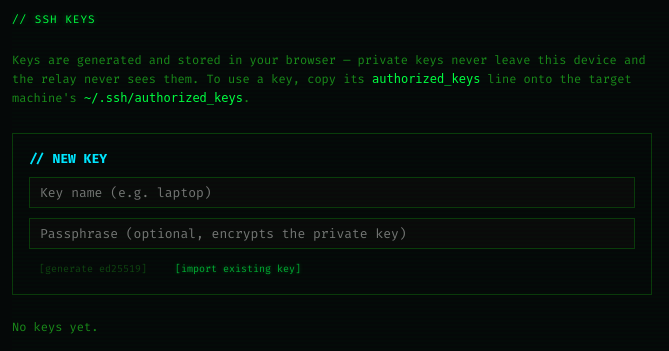
Test: KeysPage › disables generate until a name is entered
Expected: the button "[generate ed25519]" is disabled, [29, 259, 157, 278]
Type "laptop" into the field with placeholder "Key name (e.g. laptop)" at (332,192), box [29, 177, 635, 208]
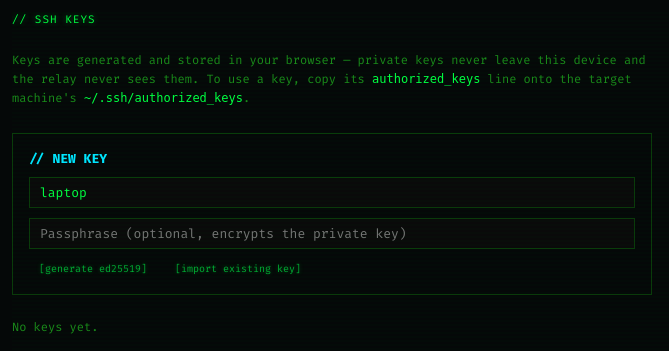
Expected: the button "[generate ed25519]" is enabled, [29, 259, 157, 278]
